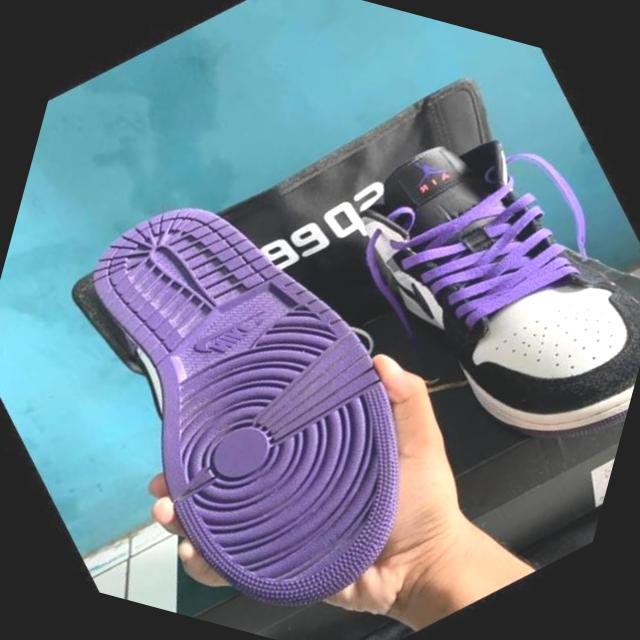nike_fake_jordan: (269, 42, 640, 521)
nike_original_jordan: (0, 106, 480, 608)
